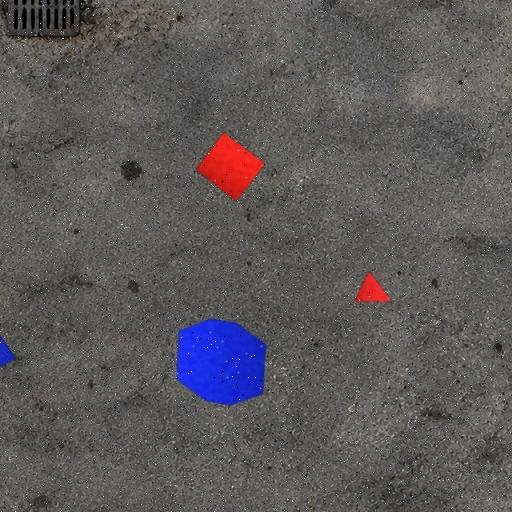RED_SQUARE: (196, 131, 266, 202)
